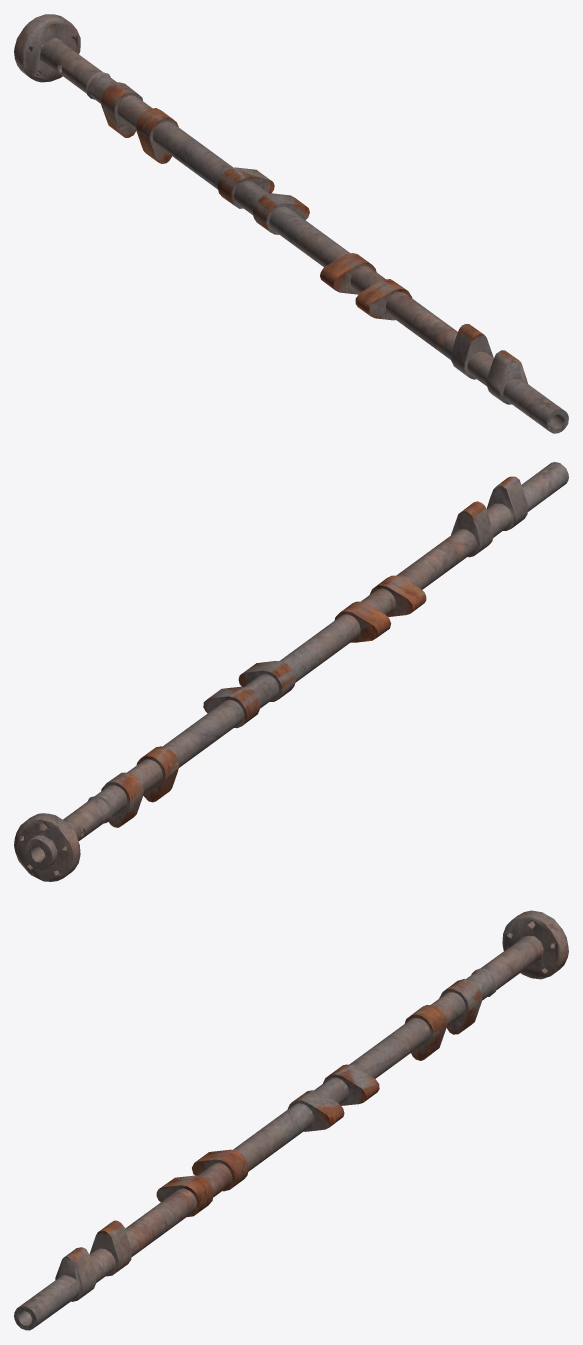
Rendered from camshaft_scan.glb.
The picture shows the model from 3 angles, top to bottom: view 1: azimuth 30°, elevation 25°; view 2: azimuth 150°, elevation 25°; view 3: azimuth 330°, elevation 25°; orthographic projection.
Visible parts, largest first — view 1: camshaft_scan; view 2: camshaft_scan; view 3: camshaft_scan.
Part boxes in pixels (x1,y1,x2,y2): camshaft_scan: (14, 14, 568, 433); camshaft_scan: (14, 462, 568, 881); camshaft_scan: (14, 910, 568, 1330).
Size of what is drawn, in the model's own units: 0.0296 by 0.0297 by 0.45.
1 material, 1 textured.
